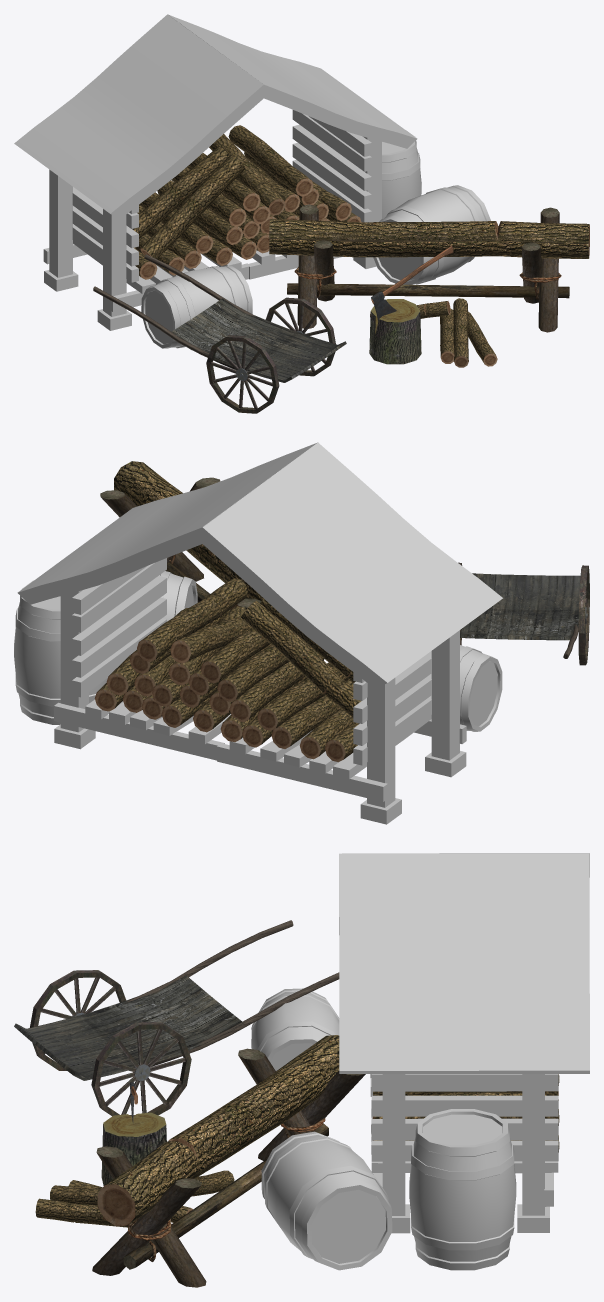
The model's file is 5_Props_Assignment_Export.fbx.
The picture shows the model from 3 angles, top to bottom: view 1: azimuth 30°, elevation 25°; view 2: azimuth 150°, elevation 25°; view 3: azimuth 270°, elevation 25°; orthographic projection. The views are drawn at different scales.
Visible parts, largest first — view 1: Woodshack_left, Woodshack_right, Cart1, Log_Big, Wood_stand, Barrel_4, Barrel_3, Log_Small, Log_Big26, Barrel_2, Log_Big35, Log_Big23 (+12 smaller); view 2: Woodshack_left, Woodshack_right, Cart1, Barrel_2, Log_Big35, Barrel_4, Log_Big23, Log_Big, Log_Big16, Log_Big22, Log_Big18, Wood_stand (+18 smaller); view 3: Woodshack_right, Cart1, Barrel_2, Barrel_3, Log_Big, Wood_stand, Barrel_4, Log_Small, Log_Big31, Log_Big29, Log_Big30.
Part boxes in pixels (x1,y1,x2,y2): Woodshack_left: (14, 14, 263, 330); Woodshack_right: (168, 14, 417, 279); Cart1: (93, 254, 346, 413); Log_Big: (269, 219, 589, 258); Wood_stand: (287, 204, 569, 332); Barrel_4: (141, 265, 252, 348); Barrel_3: (373, 185, 490, 284); Log_Small: (369, 299, 421, 364); Log_Big26: (140, 155, 245, 259); Barrel_2: (382, 130, 421, 218); Log_Big35: (132, 146, 229, 238); Log_Big23: (228, 125, 313, 196); Woodshack_left: (202, 442, 502, 824); Woodshack_right: (17, 442, 317, 760); Cart1: (458, 562, 589, 665); Barrel_2: (14, 580, 107, 724); Log_Big35: (241, 600, 361, 718); Barrel_4: (460, 645, 502, 731); Log_Big23: (137, 578, 247, 661); Log_Big: (114, 461, 263, 600); Log_Big16: (229, 647, 324, 722); Log_Big22: (170, 615, 251, 663); Log_Big18: (217, 642, 309, 701); Wood_stand: (100, 477, 261, 611); Woodshack_right: (339, 853, 589, 1233); Cart1: (14, 920, 339, 1116); Barrel_2: (409, 1109, 516, 1270); Barrel_3: (261, 1131, 392, 1270); Log_Big: (97, 1035, 339, 1226); Wood_stand: (92, 1048, 365, 1287); Barrel_4: (251, 988, 339, 1070); Log_Small: (101, 1112, 166, 1185); Log_Big31: (35, 1198, 170, 1227); Log_Big29: (50, 1185, 101, 1205); Log_Big30: (191, 1170, 234, 1196).
Size of the model in its own units: 235 by 116 by 206.
